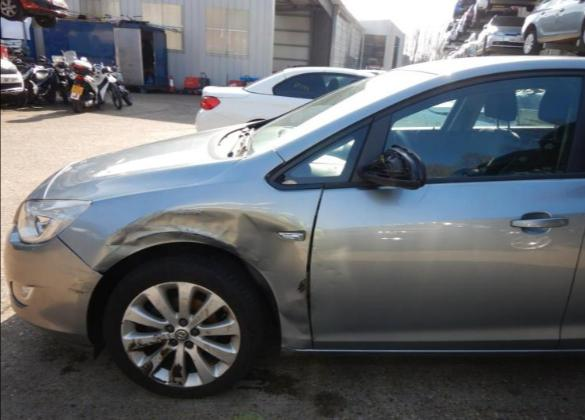Broken part: (304, 192, 325, 350), (357, 145, 425, 181), (89, 263, 118, 276)
Corrosion: (127, 334, 166, 351), (137, 360, 152, 378), (171, 364, 182, 385), (296, 278, 306, 292), (160, 347, 171, 359), (68, 287, 89, 293), (152, 375, 164, 382), (203, 344, 215, 349), (224, 325, 230, 333), (205, 308, 208, 317), (205, 330, 210, 334)
Dent: (92, 208, 312, 357)
